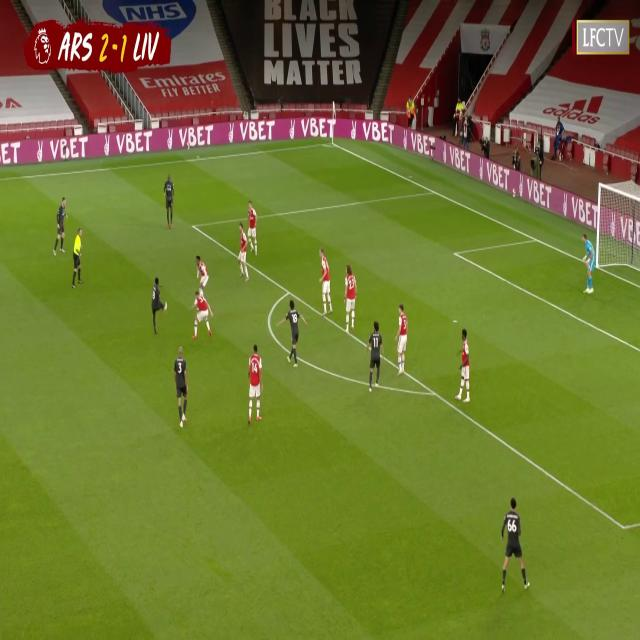ball: (164, 300, 168, 311)
team1: (498, 499, 530, 594), (174, 351, 191, 430), (368, 320, 384, 392), (287, 301, 304, 367), (153, 279, 169, 340), (54, 200, 68, 256), (162, 175, 175, 229)
team2: (248, 348, 264, 428), (191, 291, 214, 339), (394, 304, 408, 379), (458, 329, 472, 404), (343, 266, 357, 335), (317, 250, 331, 318), (195, 246, 207, 298), (246, 204, 258, 256), (238, 222, 248, 282)
